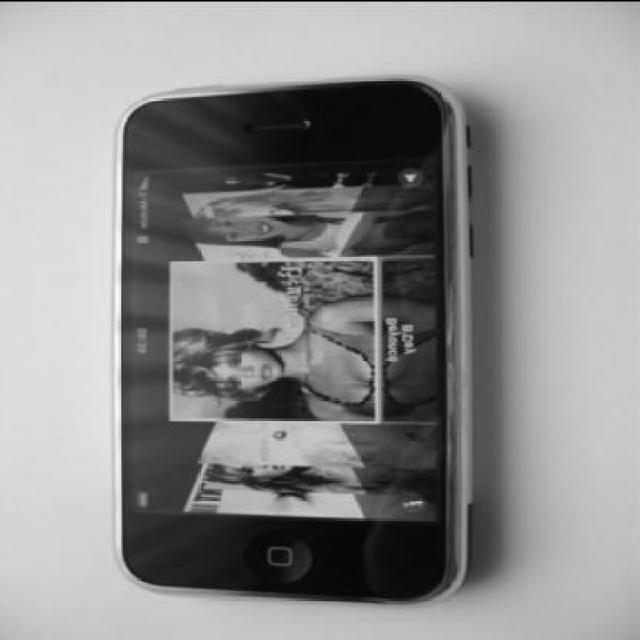fake: (112, 78, 474, 602)
